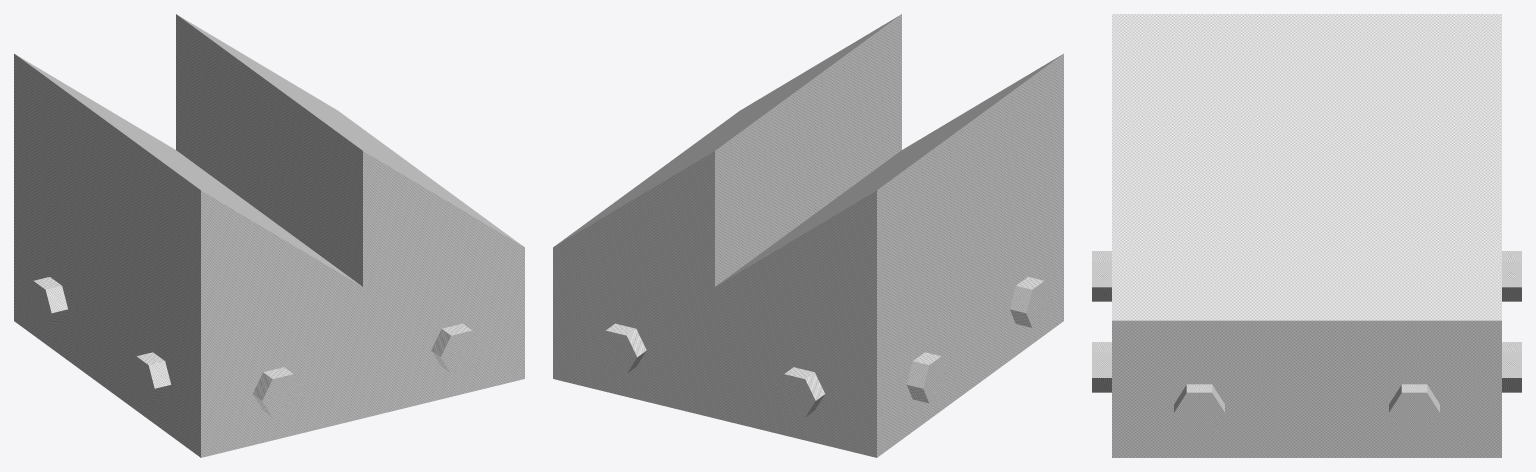
The model's file is SolarPannels.dae.
3 renders of one model, left to right at view 1: azimuth 30°, elevation 25°; view 2: azimuth 150°, elevation 25°; view 3: azimuth 270°, elevation 25°, orthographic. The views are drawn at different scales.
Parts seen in each view (by area): view 1: Solar; view 2: Solar; view 3: Solar.
Boxes of the visible parts, left/top/right/bottom form: Solar: left=14, top=14, right=524, bottom=457; Solar: left=553, top=14, right=1063, bottom=457; Solar: left=1092, top=14, right=1521, bottom=457.
Size of the model in its own units: 2 by 1.43 by 2.
